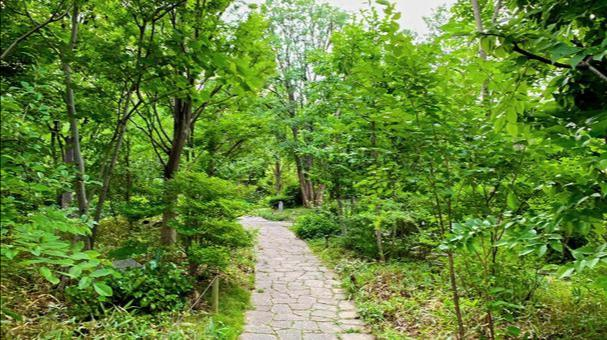overgrown grass: (1, 173, 252, 339), (310, 239, 460, 339), (455, 250, 607, 339)
